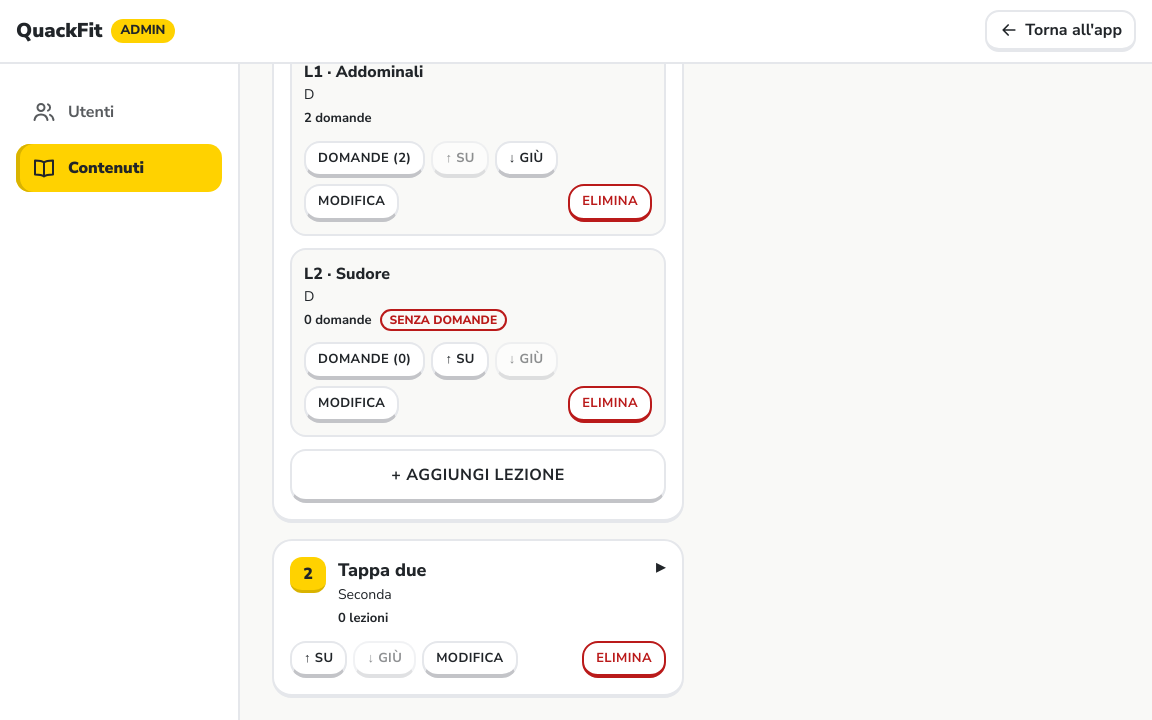
Test case: lezione scelta › un 404 sul caricamento svuota l'editor con un messaggio
(page scrolled)
Click the button with aria-label "Domande della lezione «Sudore»". click: (365, 361)
box: [304,342,425,380]
(page scrolled)
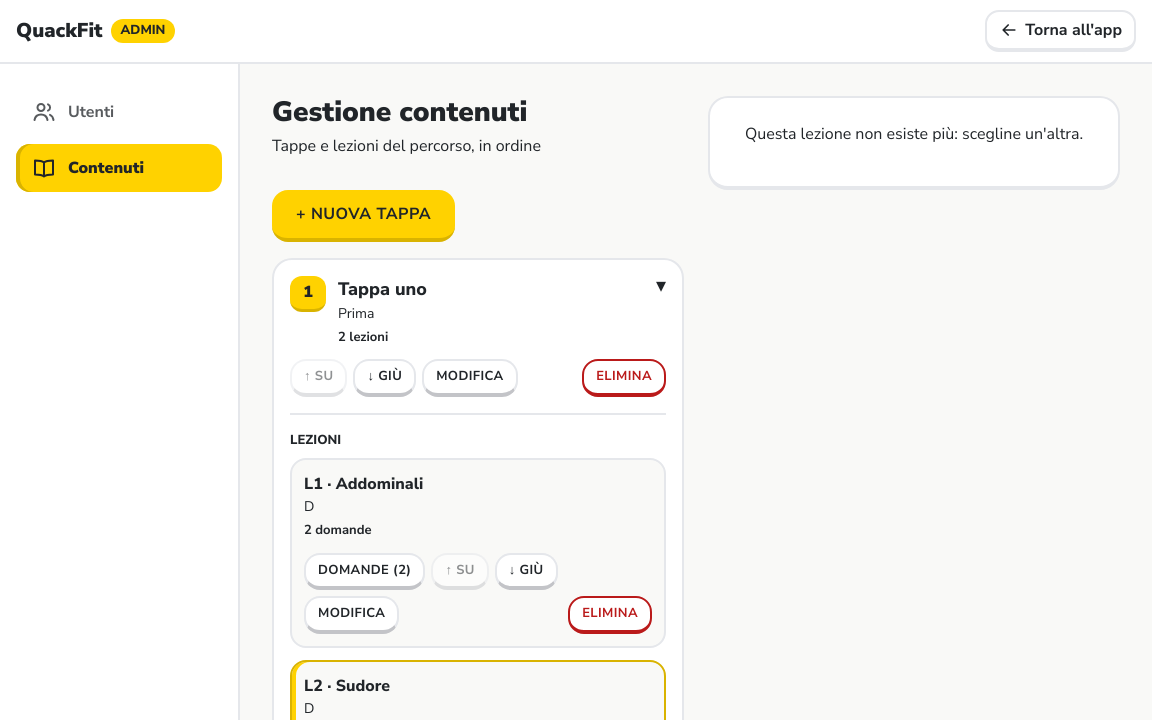
Expected: the text "Questa lezione non esiste più: scegline un'altra." is shown, [734,122,1094,146]
